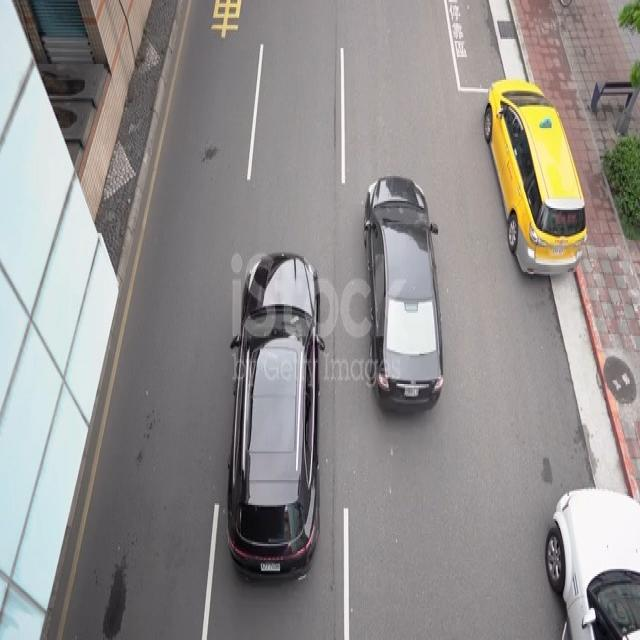Car: (219, 246, 323, 576), (482, 69, 590, 279), (358, 158, 445, 418), (545, 475, 640, 640)
